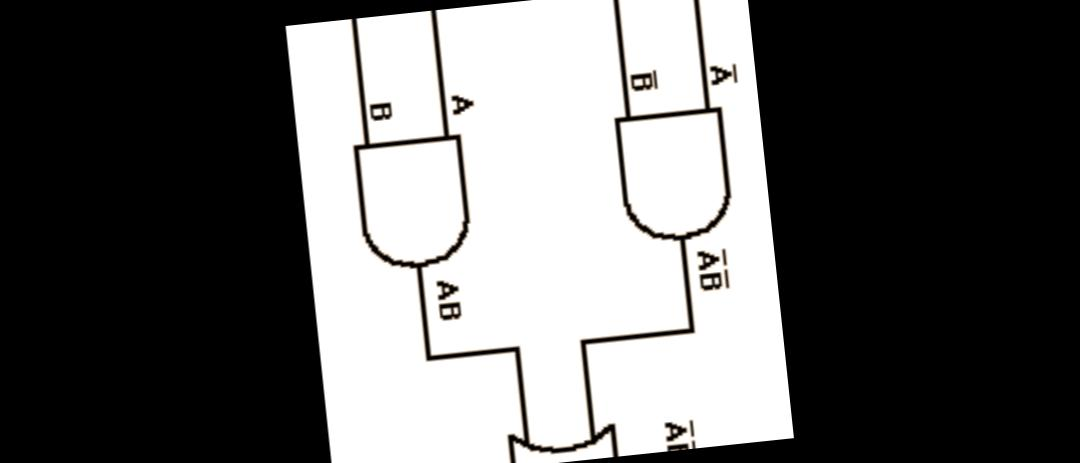and: (603, 100, 741, 256), (344, 124, 480, 280)
or: (486, 415, 628, 463)
